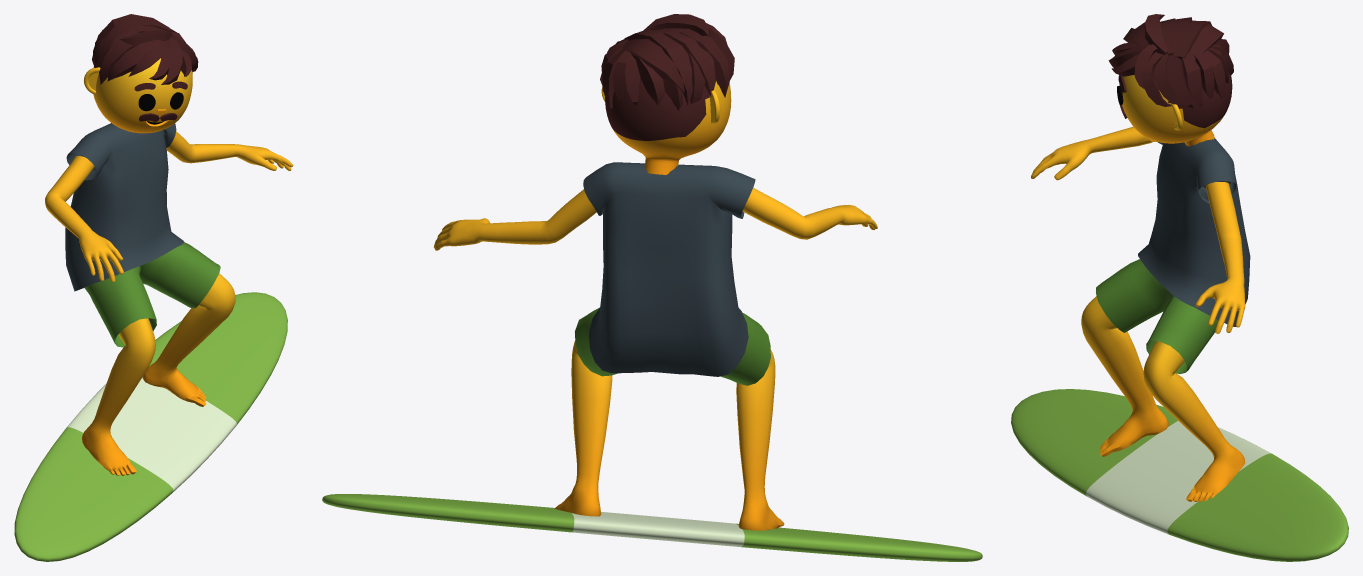
The model's file is man_surfing.glb.
3 views of the same model, side by side, from view 1: azimuth 30°, elevation 25°; view 2: azimuth 150°, elevation 25°; view 3: azimuth 270°, elevation 25° (orthographic). The views are drawn at different scales.
Visible parts, largest first — view 1: Circle.110, Plane.044, Cube.266, Roundcube.456, Circle.112, Circle.113; view 2: Circle.110, Plane.044, Cube.266, Roundcube.456; view 3: Circle.110, Plane.044, Cube.266, Roundcube.456.
Boxes of the visible parts, <box> form: Circle.110: <box>45,123,293,475</box>; Plane.044: <box>14,292,287,561</box>; Cube.266: <box>92,14,198,84</box>; Roundcube.456: <box>93,58,192,133</box>; Circle.112: <box>134,81,187,121</box>; Circle.113: <box>138,92,183,111</box>; Circle.110: <box>433,162,877,530</box>; Plane.044: <box>322,494,982,561</box>; Cube.266: <box>600,14,734,110</box>; Roundcube.456: <box>605,79,731,174</box>; Circle.110: <box>1031,126,1250,501</box>; Plane.044: <box>1011,389,1348,561</box>; Cube.266: <box>1108,14,1233,108</box>; Roundcube.456: <box>1119,60,1232,146</box>.
Size of the model in its own units: 1.96 by 2.12 by 1.33.
2 materials, 2 textured.
